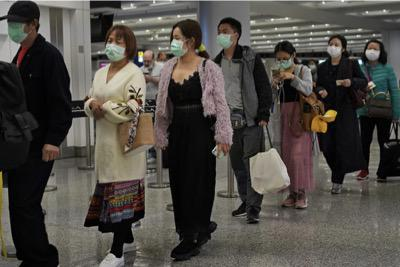mask_weared_incorrect: (141, 59, 152, 70)
with_mask: (104, 37, 126, 62), (6, 22, 30, 44), (170, 34, 188, 58), (216, 28, 235, 49), (327, 42, 342, 57), (365, 47, 381, 61), (275, 56, 292, 69), (307, 63, 315, 71)
